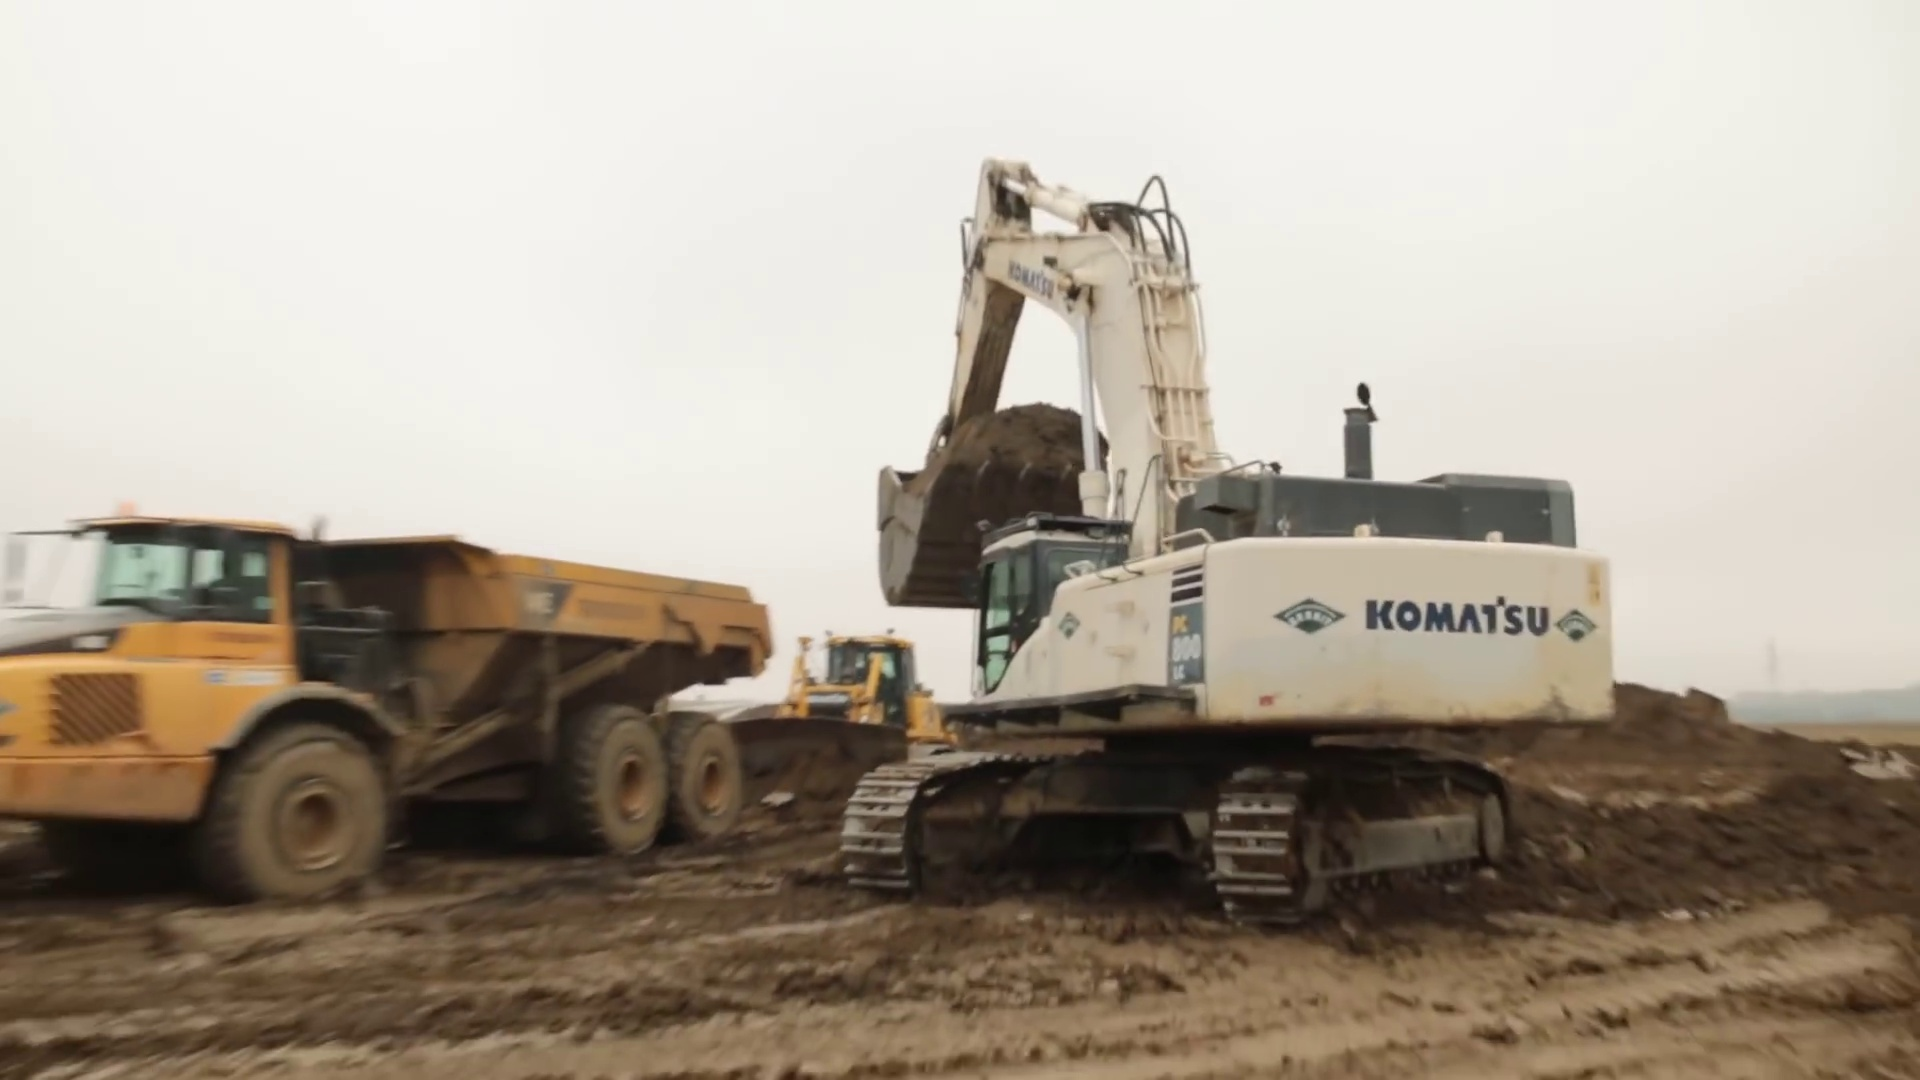bulldozer: (717, 621, 953, 811)
excavator: (843, 153, 1615, 919)
truck: (7, 509, 781, 899)
